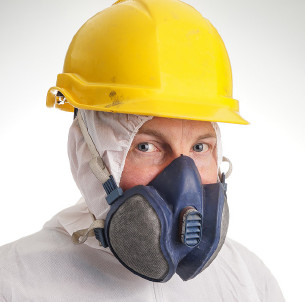face_mask: (104, 120, 230, 282)
